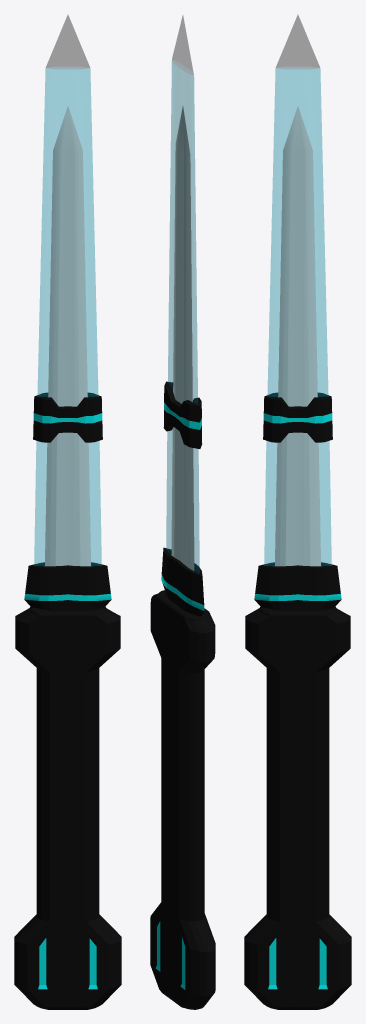
Rendered from Dagger01.fbx.
The picture shows the model from 3 angles, left to right: view 1: azimuth 90°, elevation 25°; view 2: azimuth 210°, elevation 25°; view 3: azimuth 270°, elevation 25°; orthographic projection.
Parts seen in each view (by area): view 1: Handle, Glass, BladeInner, BottomRing, TopRing; view 2: Handle, Glass, BladeInner, BottomRing, TopRing; view 3: Handle, Glass, BladeInner, BottomRing, TopRing.
Boxes of the visible parts, <box> form: Handle: <box>14,606,121,1009</box>; Glass: <box>34,15,101,565</box>; BladeInner: <box>45,106,90,566</box>; BottomRing: <box>24,562,111,610</box>; TopRing: <box>33,392,102,442</box>; Handle: <box>150,590,215,1009</box>; Glass: <box>166,16,199,573</box>; BladeInner: <box>171,106,194,570</box>; BottomRing: <box>161,547,204,616</box>; TopRing: <box>163,381,202,448</box>; Handle: <box>244,606,351,1009</box>; Glass: <box>264,15,331,565</box>; BladeInner: <box>275,106,320,566</box>; BottomRing: <box>254,562,341,610</box>; TopRing: <box>263,392,332,442</box>.
Bounding box in the file's own units: 1 × 37.35 × 3.67.
